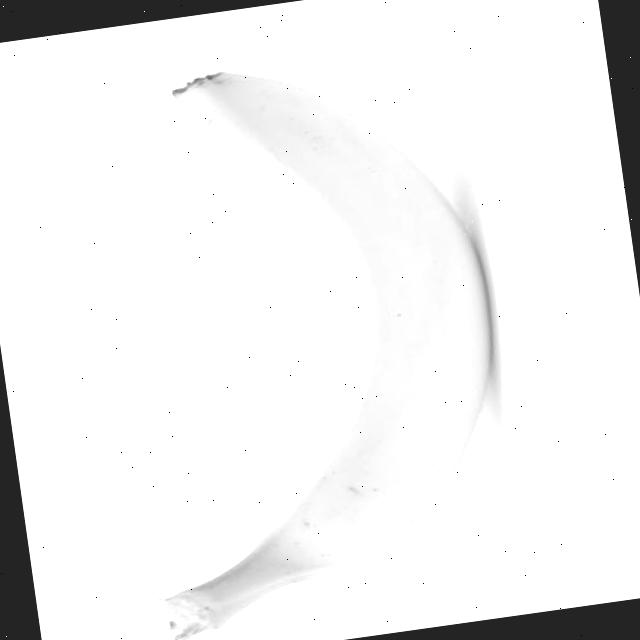Ripe: (84, 34, 538, 640)
